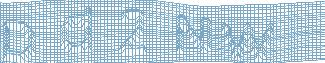2: (118, 8, 149, 57)
D: (1, 18, 37, 63)
N: (174, 12, 211, 55)
W: (220, 21, 275, 63)
d: (58, 6, 93, 55)
